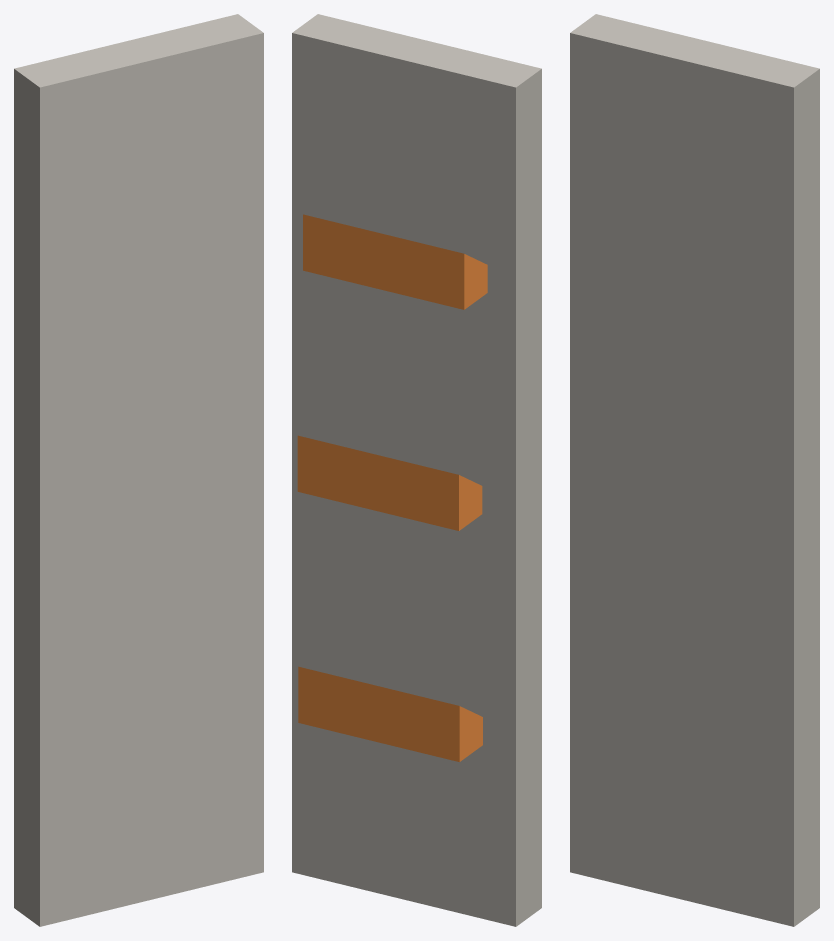
File: shelvingBracket.dae
3 renders of one model, left to right at view 1: azimuth 30°, elevation 25°; view 2: azimuth 150°, elevation 25°; view 3: azimuth 330°, elevation 25°, orthographic.
Visible parts, largest first — view 1: SketchUp; view 2: SketchUp (×4); view 3: SketchUp.
Boxes of the visible parts, left/top/right/bottom form: SketchUp: left=14, top=14, right=263, bottom=926; SketchUp (×4): left=292, top=14, right=541, bottom=926; SketchUp: left=570, top=14, right=819, bottom=926.
Size of the model in its own units: 19.69 by 7.48 by 70.47.
